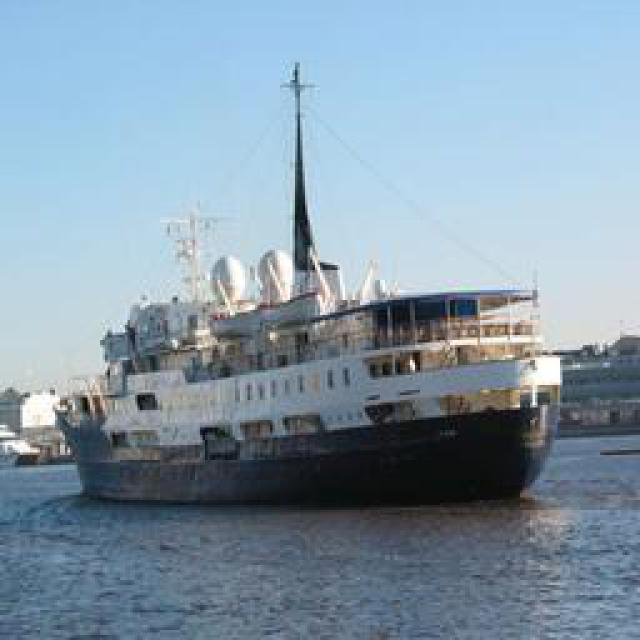Ship: (48, 54, 563, 507)
